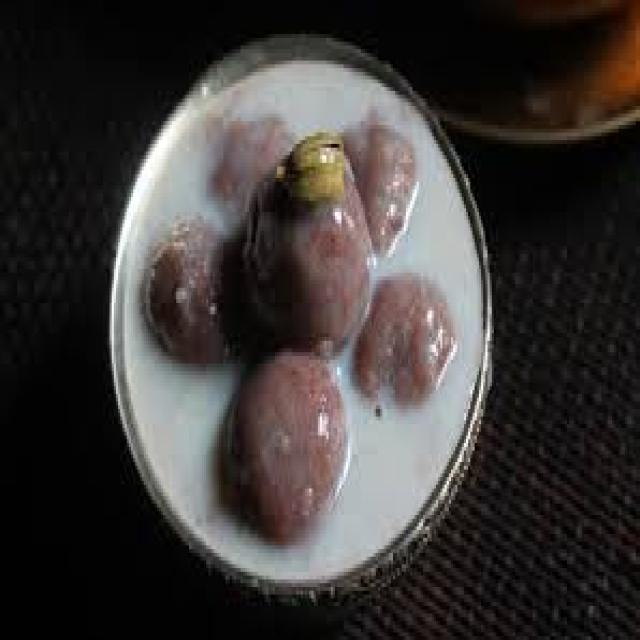paal kolukattai: (148, 73, 448, 549)
